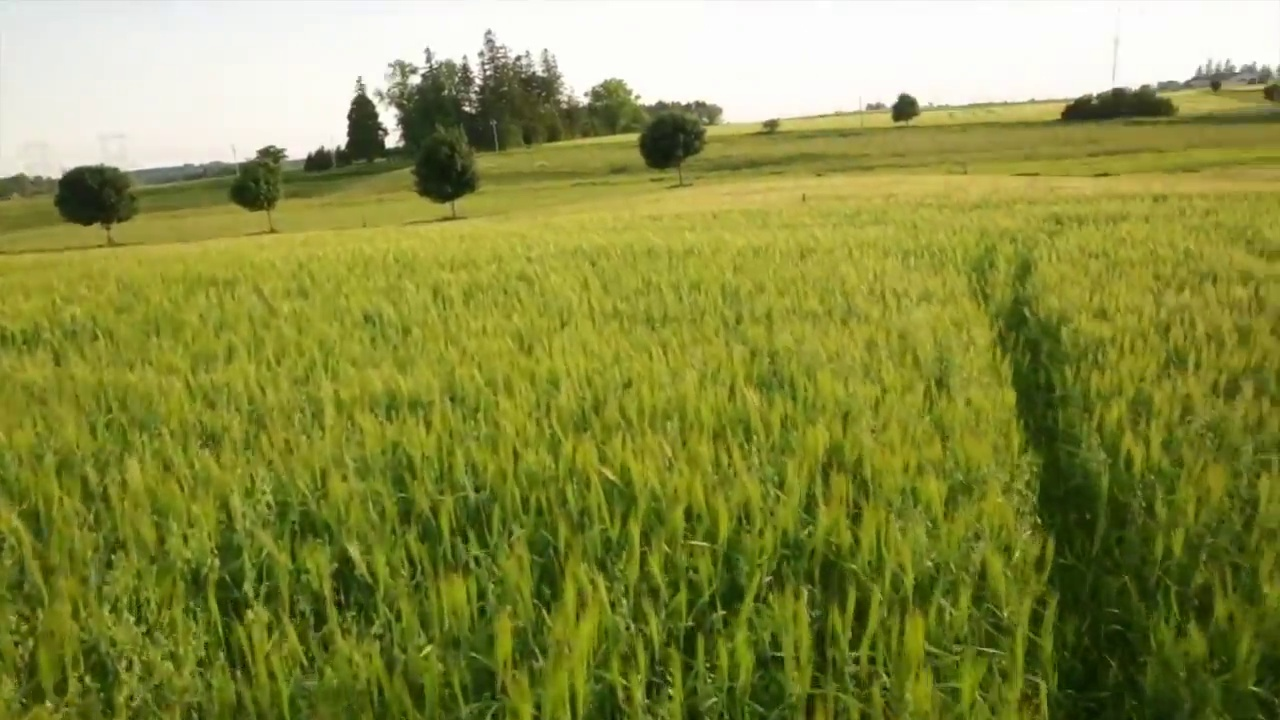Wheat: (468, 543, 949, 676)
